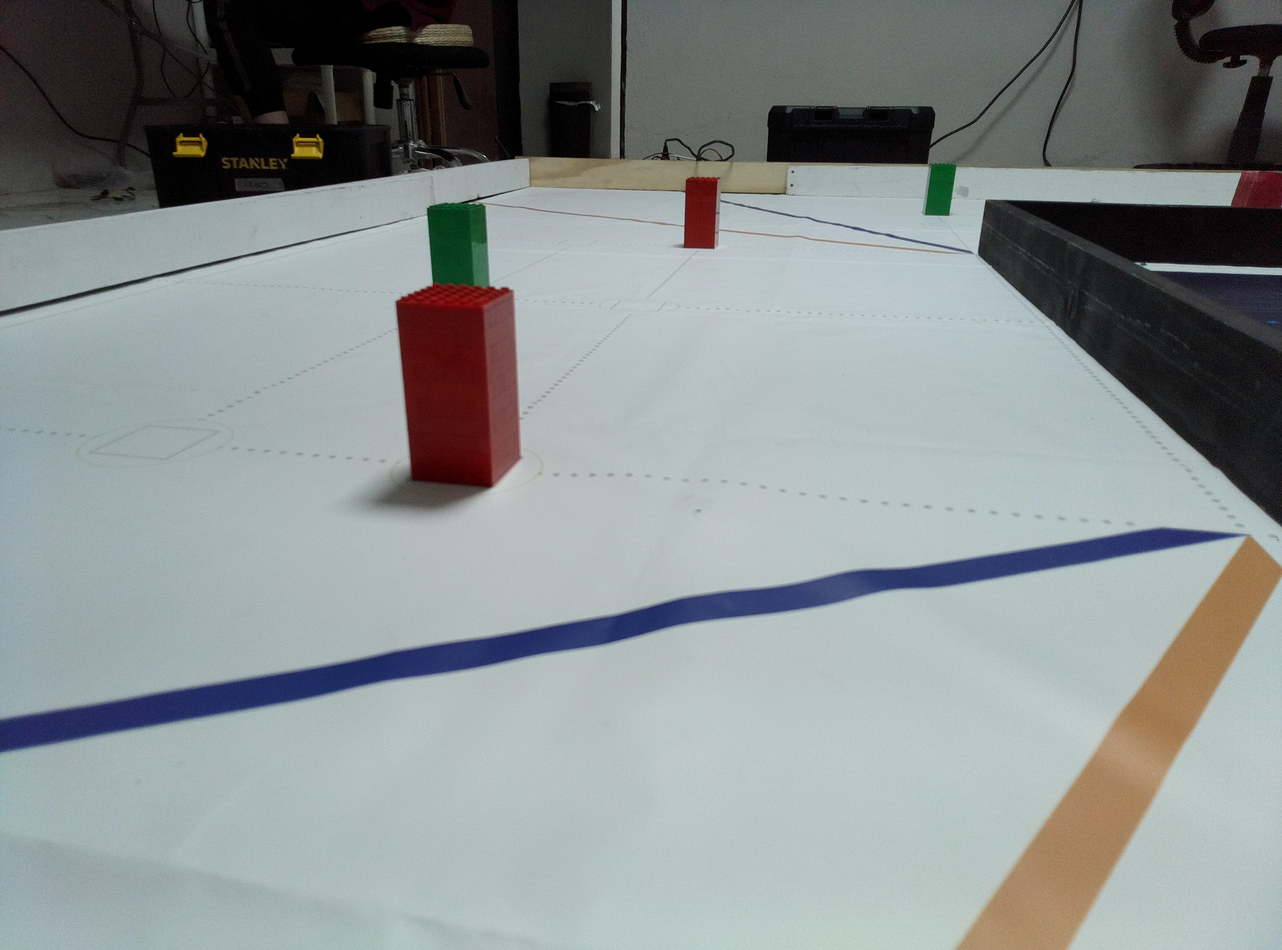greenbox: (425, 201, 492, 288), (922, 163, 958, 217)
redbox: (393, 283, 526, 490), (683, 176, 722, 250), (1228, 169, 1282, 209)
